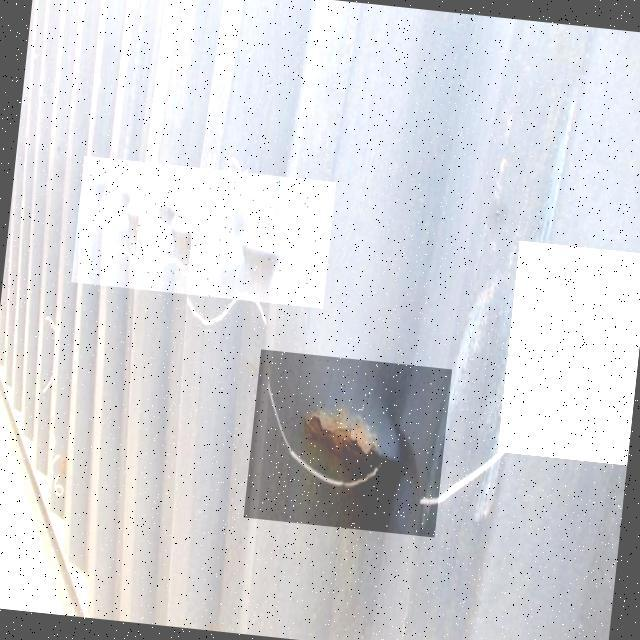Dent: (71, 156, 336, 309), (243, 349, 452, 537)
